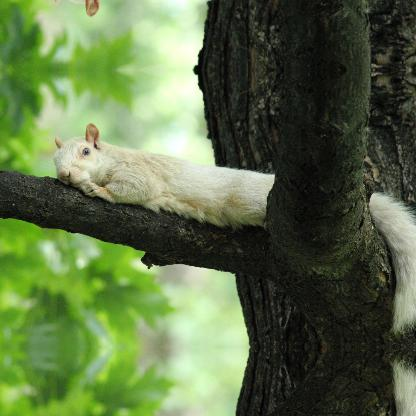Squirrel: (39, 120, 414, 334), (39, 358, 415, 415)
